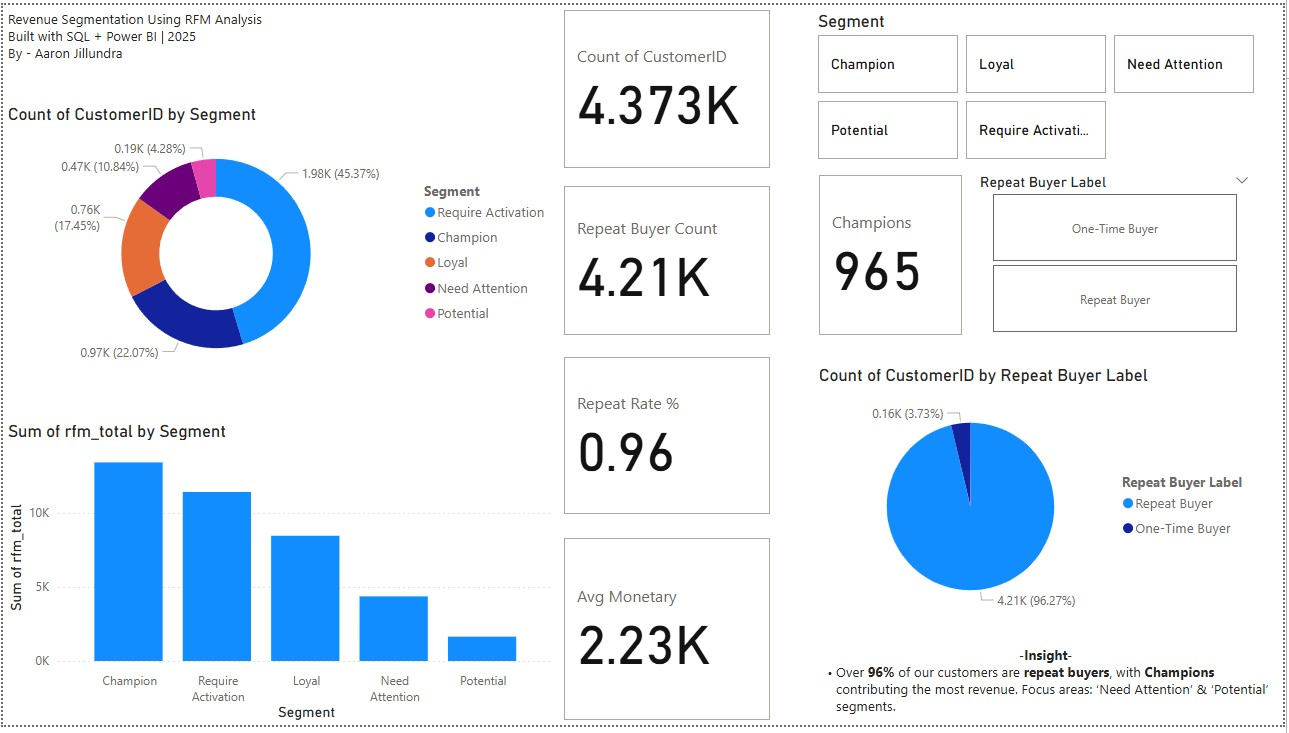

What the dashboard file says about the page in this screenshot:
{"tool":"powerbi","page":{"name":"Dashboard","canvas":[1280,720],"ordinal":0},"visuals":[{"type":"donutChart","fields":{"Category":["revenue_segmentation_sql_full.segment"],"Y":["Count(revenue_segmentation_sql_full.CustomerID)"]},"box":[0,98.5,556.4,280.7],"z":0},{"type":"clusteredColumnChart","fields":{"Category":["revenue_segmentation_sql_full.segment"],"Y":["Sum(revenue_segmentation_sql_full.rfm_total)"]},"box":[0,416,556.4,303.6],"z":1},{"type":"pieChart","fields":{"Category":["revenue_segmentation_sql_full.Repeat Buyer Label"],"Y":["Count(revenue_segmentation_sql_full.CustomerID)"]},"box":[811.2,360.3,447.9,263.8],"z":2},{"type":"cardVisual","fields":{"Data":["Count(revenue_segmentation_sql_full.CustomerID)"]},"box":[556.3,0.2,215.6,167.4],"z":3},{"type":"cardVisual","fields":{"Data":["revenue_segmentation_sql_full.Repeat Buyer Count"]},"box":[556.3,175.5,215.6,159.5],"z":4},{"type":"cardVisual","fields":{"Data":["revenue_segmentation_sql_full.Repeat Rate %"]},"box":[556.3,346.8,215.6,167.4],"z":5},{"type":"cardVisual","fields":{"Data":["revenue_segmentation_sql_full.Champions"]},"box":[811.2,164.6,152.7,170.2],"z":6},{"type":"cardVisual","fields":{"Data":["revenue_segmentation_sql_full.Avg Monetary"]},"box":[556.3,528,215.6,192],"z":7},{"type":"advancedSlicerVisual","fields":{"Values":["revenue_segmentation_sql_full.segment"]},"box":[810.2,6,447.9,154.3],"z":8},{"type":"slicer","fields":{"Values":["revenue_segmentation_sql_full.Repeat Buyer Label"]},"box":[964,164.2,294,170],"z":9},{"type":"textbox","box":[0,0,556.4,83.6],"z":10},{"type":"textbox","box":[810.2,636,469.8,83.6],"z":11}]}

Visuals, with their boxes in screenshot pixels (x1, y1, x2, y2), scaled from the page's 1280x720 canvas onto the 1289x733 screenshot:
donutChart - revenue_segmentation_sql_full.segment x Count(revenue_segmentation_sql_full.CustomerID): Rect(0, 100, 560, 386)
clusteredColumnChart - revenue_segmentation_sql_full.segment x Sum(revenue_segmentation_sql_full.rfm_total): Rect(0, 424, 560, 732)
pieChart - revenue_segmentation_sql_full.Repeat Buyer Label x Count(revenue_segmentation_sql_full.CustomerID): Rect(817, 367, 1268, 635)
cardVisual - Count(revenue_segmentation_sql_full.CustomerID): Rect(560, 0, 777, 171)
cardVisual - revenue_segmentation_sql_full.Repeat Buyer Count: Rect(560, 179, 777, 341)
cardVisual - revenue_segmentation_sql_full.Repeat Rate %: Rect(560, 353, 777, 523)
cardVisual - revenue_segmentation_sql_full.Champions: Rect(817, 168, 971, 341)
cardVisual - revenue_segmentation_sql_full.Avg Monetary: Rect(560, 538, 777, 732)
advancedSlicerVisual - revenue_segmentation_sql_full.segment: Rect(816, 6, 1267, 163)
slicer - revenue_segmentation_sql_full.Repeat Buyer Label: Rect(971, 167, 1267, 340)
textbox: Rect(0, 0, 560, 85)
textbox: Rect(816, 647, 1288, 732)
